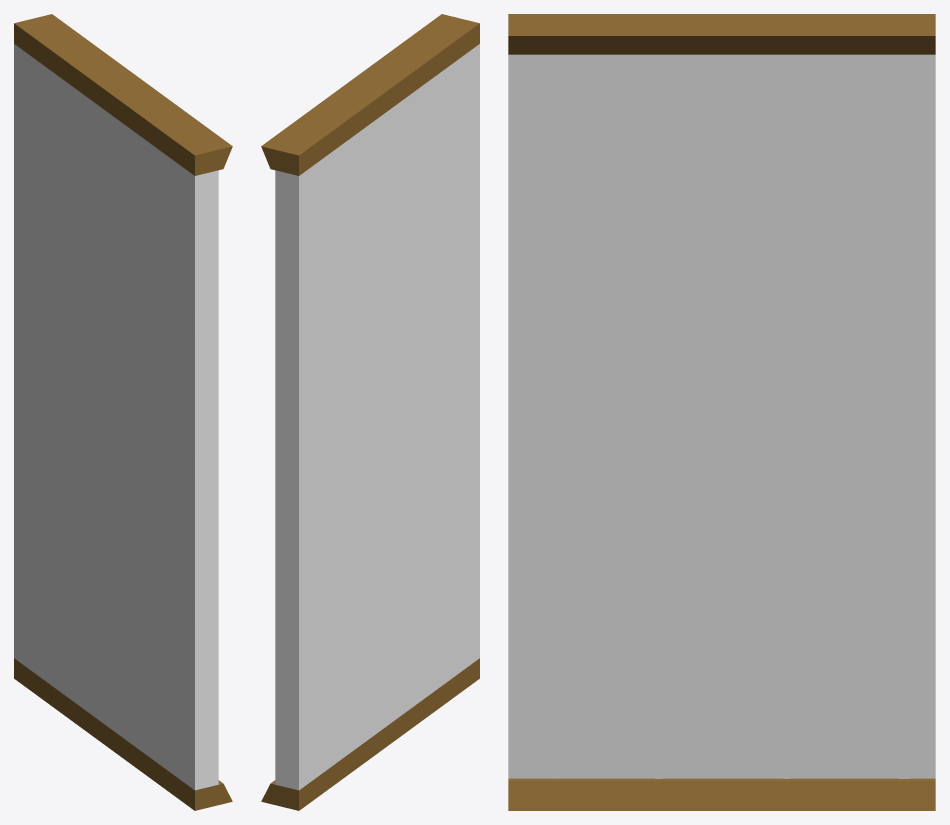
The model's file is Duvar_1.fbx.
The picture shows the model from 3 angles, left to right: view 1: azimuth 30°, elevation 25°; view 2: azimuth 150°, elevation 25°; view 3: azimuth 270°, elevation 25°; orthographic projection. The views are drawn at different scales.
Visible parts, largest first — view 1: Cube.001; view 2: Cube.001; view 3: Cube.001, Plane.001, Plane.004, Plane.003, Plane.005.
Part boxes in pixels (box(x1,y1,x2,y2)): Cube.001: box(14, 14, 232, 810); Cube.001: box(261, 14, 479, 810); Cube.001: box(508, 14, 935, 810); Plane.001: box(642, 140, 848, 778); Plane.004: box(609, 443, 725, 778); Plane.003: box(551, 67, 745, 778); Plane.005: box(825, 535, 927, 778).
Size of the model in its own units: 24.25 by 402 by 200.
